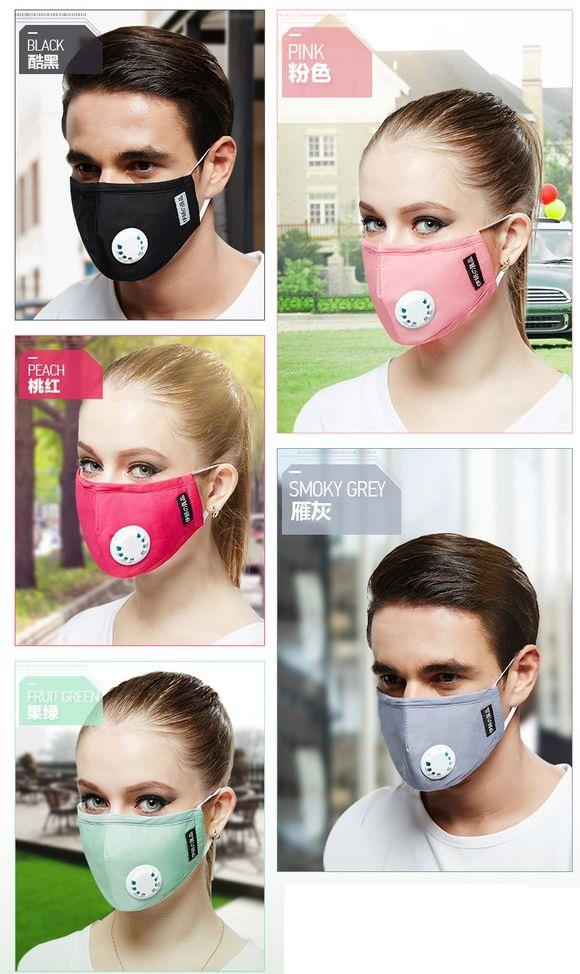OK: (359, 181, 511, 346), (61, 122, 217, 278), (374, 631, 521, 794), (79, 761, 226, 916), (79, 424, 211, 584)
